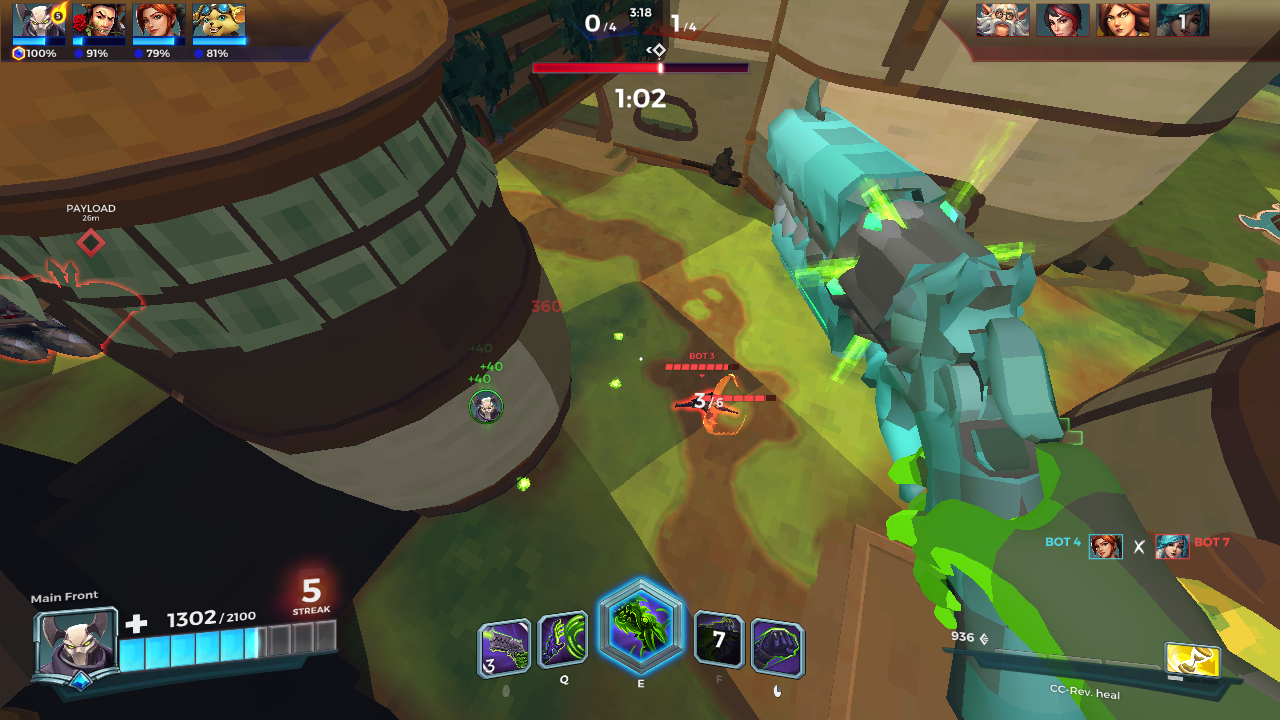model: (659, 378, 736, 429)
